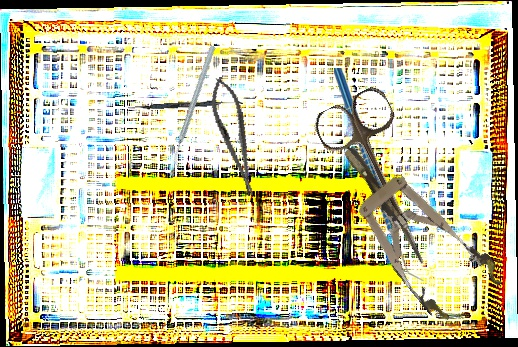Chopper: (334, 68, 425, 281), (134, 44, 256, 169)
Iris Scissors: (309, 83, 461, 279)
Needle Holder: (204, 73, 264, 200)
Spatula Surgical: (127, 97, 244, 113)
Speculum: (316, 122, 508, 331)
